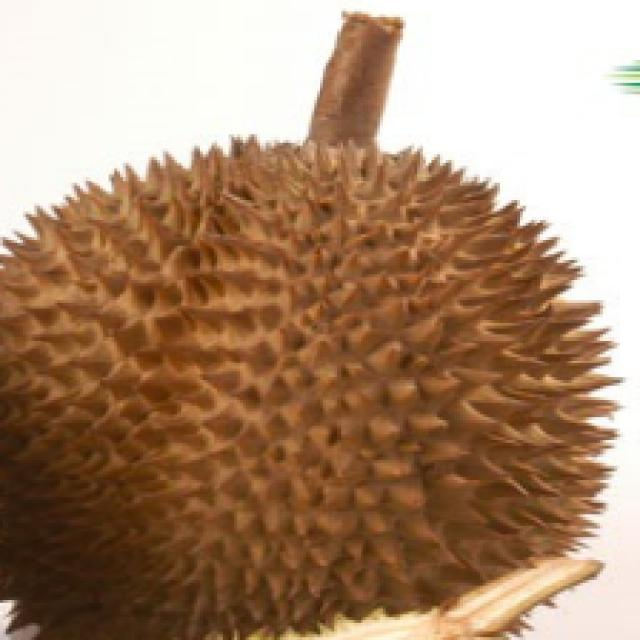d24: (18, 36, 588, 620)
